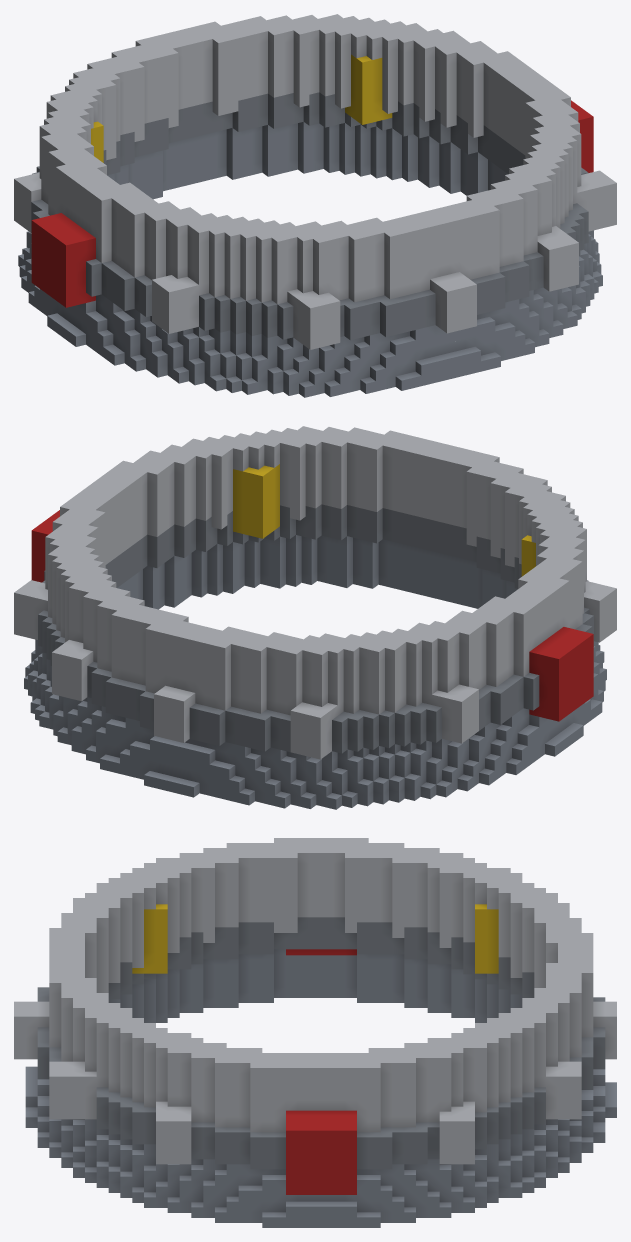
Rendered from decoupler_clamp_s.glb.
3 views of the same model, one above another, from view 1: azimuth 30°, elevation 25°; view 2: azimuth 150°, elevation 25°; view 3: azimuth 270°, elevation 25° (orthographic). The views are drawn at different scales.
Visible parts, largest first — view 1: decoupler_clamp_s; view 2: decoupler_clamp_s; view 3: decoupler_clamp_s.
Boxes of the visible parts, x1=… form: decoupler_clamp_s: x1=14, y1=14, x2=616, y2=397; decoupler_clamp_s: x1=14, y1=426, x2=616, y2=809; decoupler_clamp_s: x1=14, y1=838, x2=616, y2=1227.
Bounding box in the file's own units: 1.32 × 0.35 × 1.27.
